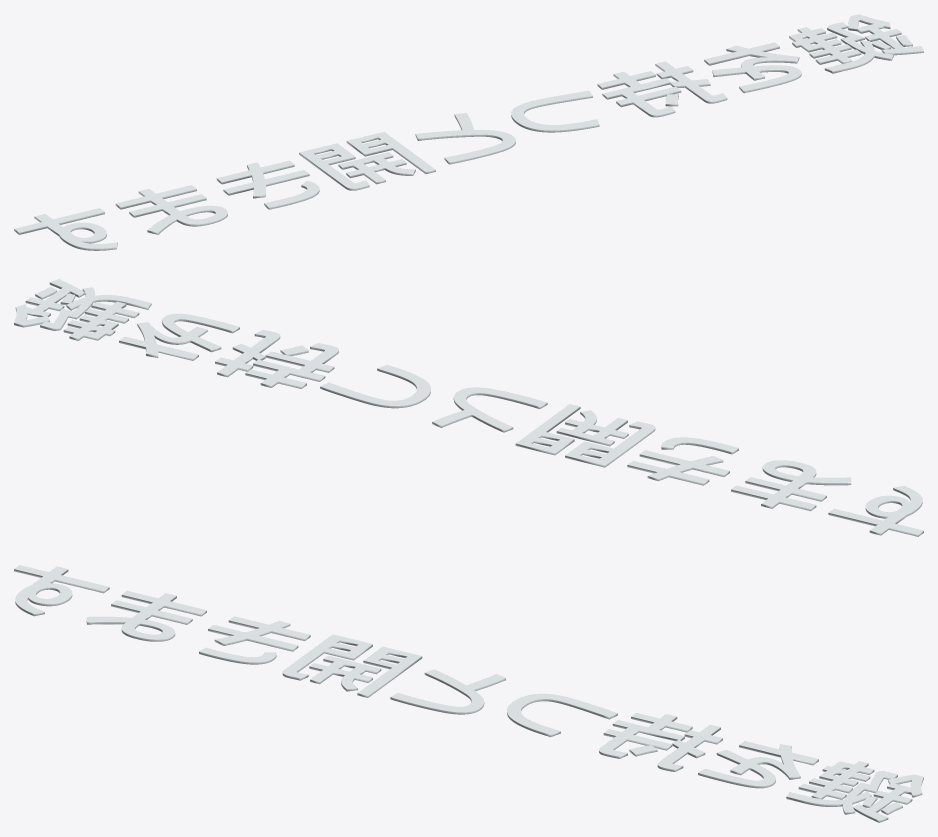
Rendered from stage2_locked_door_detail.obj.
3 renders of one model, top to bottom at view 1: azimuth 30°, elevation 25°; view 2: azimuth 150°, elevation 25°; view 3: azimuth 330°, elevation 25°, orthographic. The views are drawn at different scales.
Visible parts, largest first — view 1: stage2_locked_door_detail; view 2: stage2_locked_door_detail; view 3: stage2_locked_door_detail.
Part boxes in pixels (x1,y1,x2,y2): stage2_locked_door_detail: (14,14,923,250); stage2_locked_door_detail: (14,279,923,536); stage2_locked_door_detail: (14,565,923,822).
Size of the model in its own units: 4.3 by 0.0106 by 0.4615.
Materials: 1 (1 with a texture image).
